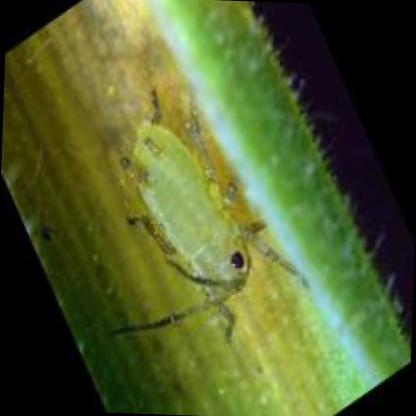schizaphis graminum: (130, 93, 306, 301)
